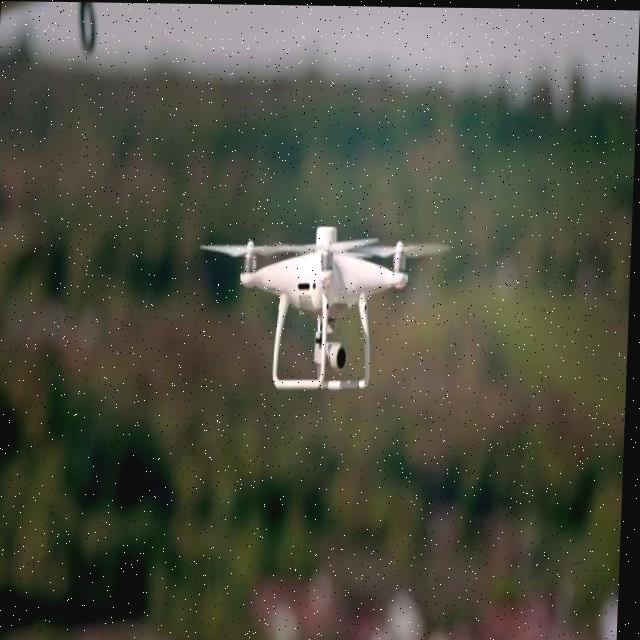drone: (194, 218, 454, 398)
